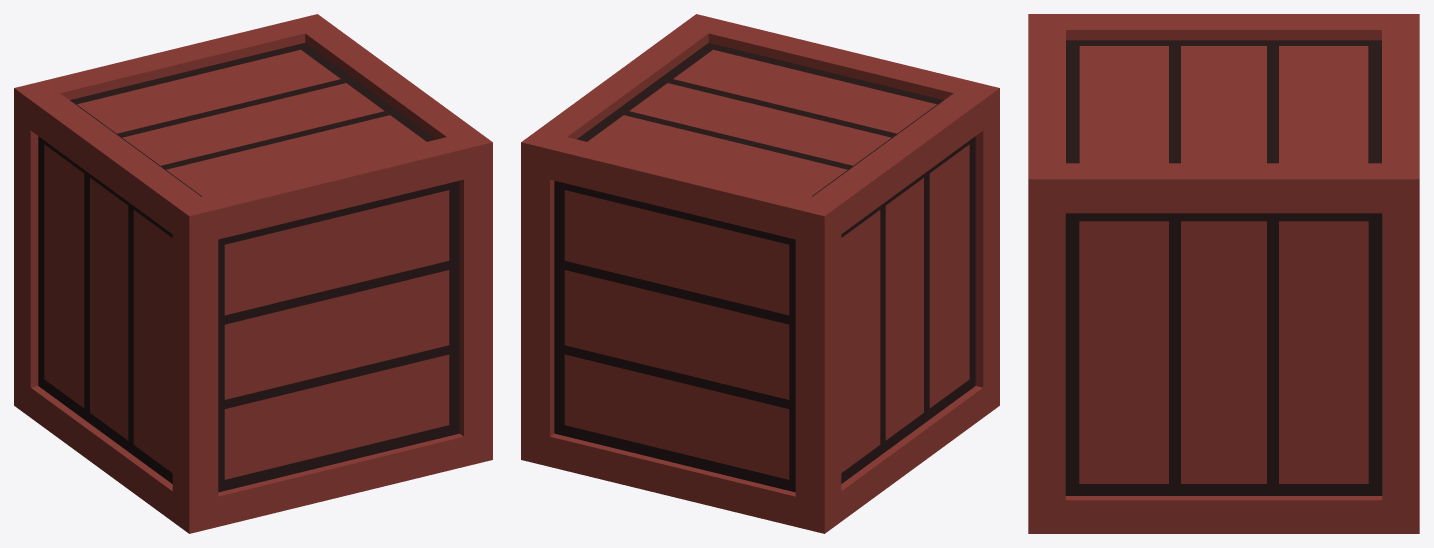
The model's file is F_CubeMiniGra.fbx.
3 renders of one model, left to right at view 1: azimuth 30°, elevation 25°; view 2: azimuth 150°, elevation 25°; view 3: azimuth 270°, elevation 25°, orthographic. The views are drawn at different scales.
Visible parts, largest first — view 1: F_CubeMiniGra; view 2: F_CubeMiniGra; view 3: F_CubeMiniGra.
Boxes of the visible parts, x1,y1,x2,y2 form: F_CubeMiniGra: [14, 14, 492, 533]; F_CubeMiniGra: [521, 14, 999, 533]; F_CubeMiniGra: [1028, 14, 1419, 533].
Bounding box in the file's own units: 100 × 100 × 100.
